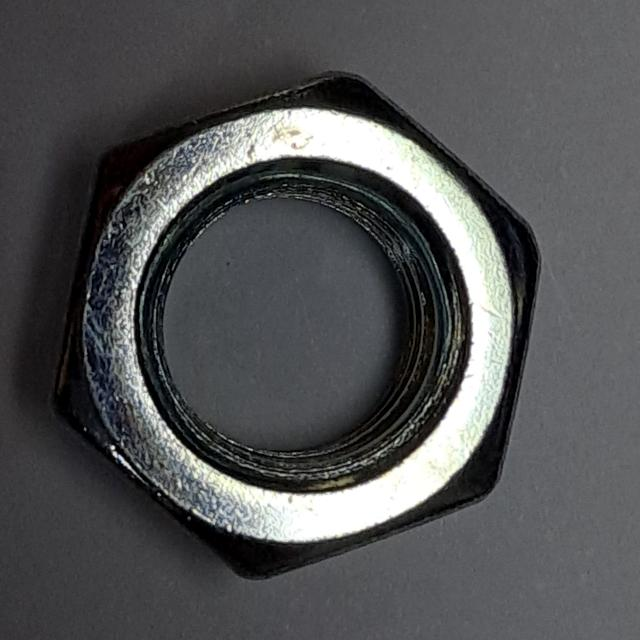Excellent: (32, 53, 553, 589)
